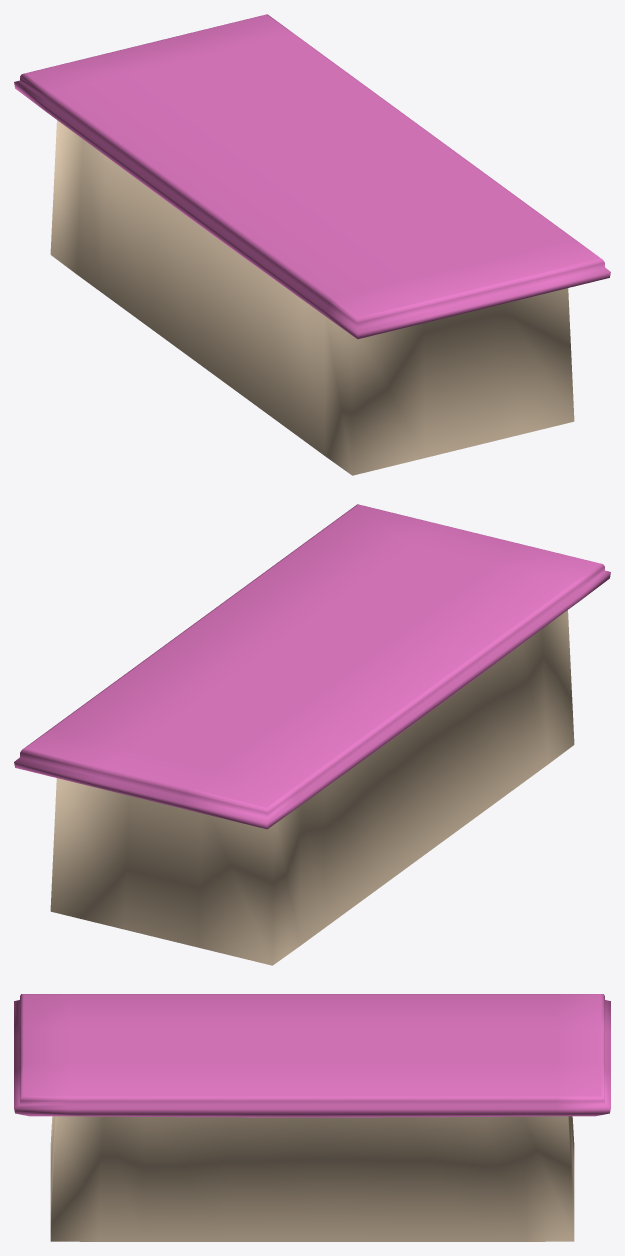
Rendered from props_kitchen_ilot.fbx.
3 views of the same model, one above another, from view 1: azimuth 30°, elevation 25°; view 2: azimuth 150°, elevation 25°; view 3: azimuth 270°, elevation 25° (orthographic). The views are drawn at different scales.
Parts seen in each view (by area): view 1: Cube.001; view 2: Cube.001; view 3: Cube.001.
Boxes of the visible parts, x1,y1,x2,y2 form: Cube.001: (14, 14, 610, 475); Cube.001: (14, 504, 610, 965); Cube.001: (14, 994, 610, 1241).
Size of the model in its own units: 2.35 by 5.52 by 1.52.
